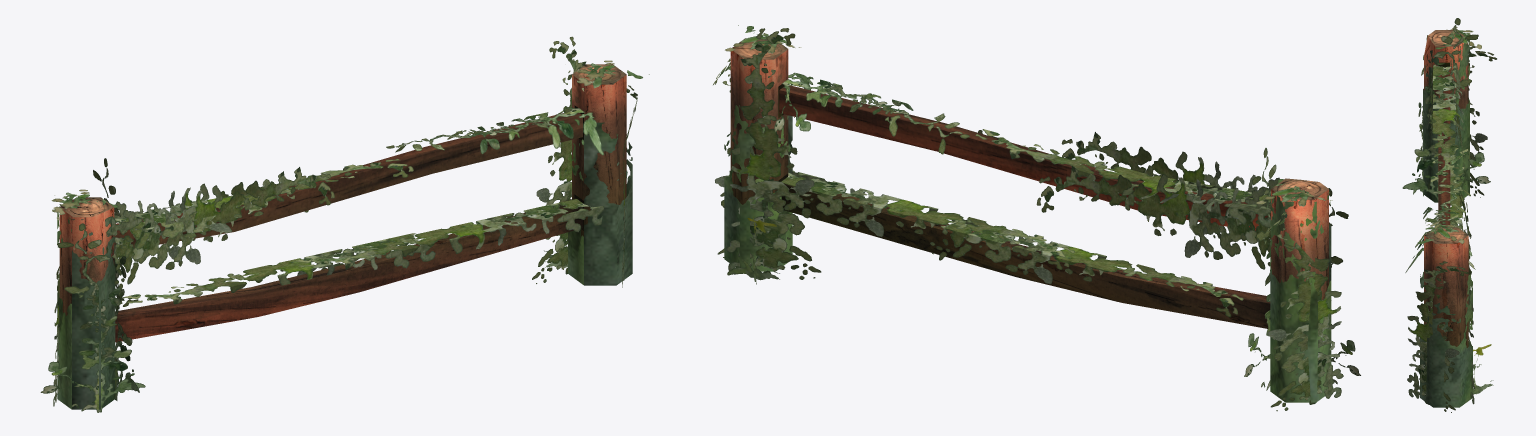
Rendered from fence3.fbx.
3 views of the same model, side by side, from view 1: azimuth 30°, elevation 25°; view 2: azimuth 150°, elevation 25°; view 3: azimuth 270°, elevation 25° (orthographic). The views are drawn at different scales.
Visible parts, largest first — view 1: fence3; view 2: fence3; view 3: fence3.
Boxes of the visible parts, left/top/right/bottom form: fence3: left=40, top=36, right=649, bottom=412; fence3: left=713, top=25, right=1360, bottom=411; fence3: left=1402, top=18, right=1496, bottom=412.
Bounding box in the file's own units: 361 × 142 × 77.31.
